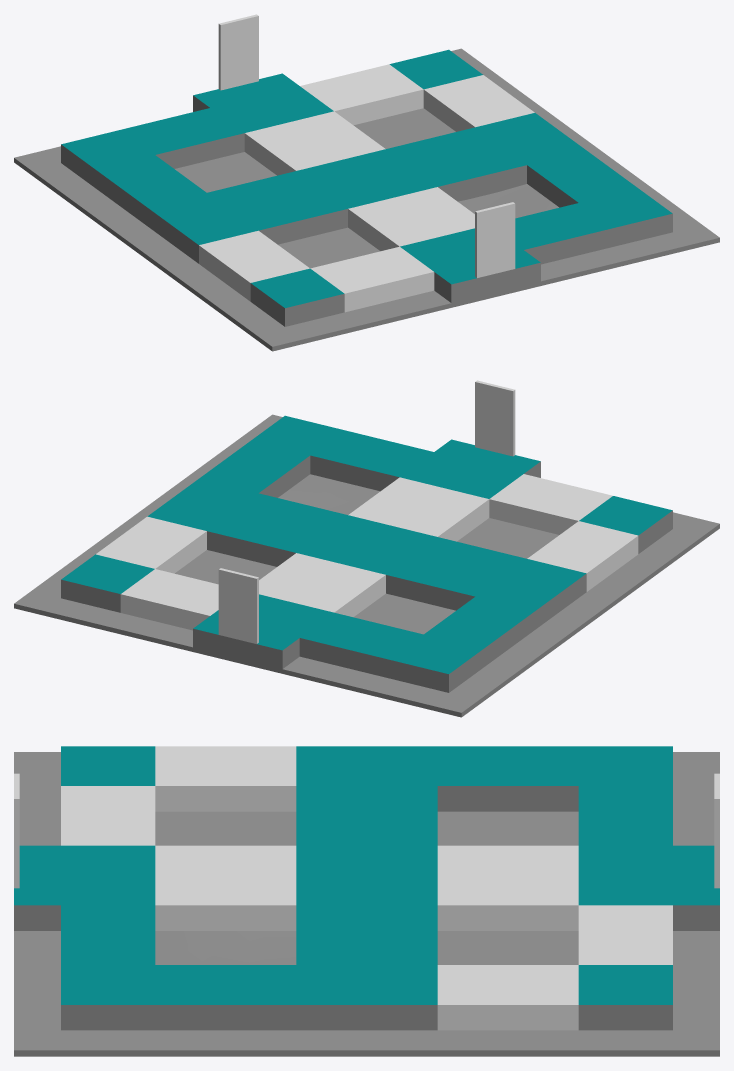
File: AligatorBossRoom.FBX
3 renders of one model, top to bottom at view 1: azimuth 30°, elevation 25°; view 2: azimuth 150°, elevation 25°; view 3: azimuth 270°, elevation 25°, orthographic. The views are drawn at different scales.
Visible parts, largest first — view 1: AligatorBossRoom, BreakableBlock(6), BreakableBlock(5), BreakableBlock(4), BreakableBlock(3), BreakableBlock(1), BreakableBlock(2), EntranceDoor, ExitDoor; view 2: AligatorBossRoom, BreakableBlock(5), BreakableBlock(6), BreakableBlock(4), BreakableBlock(3), BreakableBlock(1), BreakableBlock(2), ExitDoor, EntranceDoor; view 3: AligatorBossRoom, BreakableBlock(5), BreakableBlock(6), BreakableBlock(1), BreakableBlock(2), BreakableBlock(3), BreakableBlock(4), ExitDoor, EntranceDoor.
Part boxes in pixels (box(x1,y1,x2,y2)): AligatorBossRoom: box(14, 48, 719, 351); BreakableBlock(6): box(244, 111, 385, 175); BreakableBlock(5): box(348, 187, 474, 251); BreakableBlock(4): box(310, 246, 434, 312); BreakableBlock(3): box(300, 64, 423, 125); BreakableBlock(1): box(199, 230, 309, 301); BreakableBlock(2): box(423, 75, 534, 131); EntranceDoor: box(218, 14, 258, 90); ExitDoor: box(475, 202, 515, 277); AligatorBossRoom: box(14, 414, 719, 717); BreakableBlock(5): box(348, 477, 489, 541); BreakableBlock(6): box(259, 553, 385, 617); BreakableBlock(4): box(489, 474, 612, 534); BreakableBlock(3): box(120, 569, 218, 630); BreakableBlock(1): box(527, 521, 638, 591); BreakableBlock(2): box(96, 516, 206, 573); ExitDoor: box(475, 380, 515, 456); EntranceDoor: box(218, 568, 258, 643); AligatorBossRoom: box(14, 746, 719, 1056); BreakableBlock(5): box(155, 845, 296, 930); BreakableBlock(6): box(437, 845, 578, 930); BreakableBlock(1): box(155, 746, 296, 811); BreakableBlock(2): box(437, 965, 578, 1030); BreakableBlock(3): box(578, 905, 672, 964); BreakableBlock(4): box(61, 786, 155, 845); ExitDoor: box(14, 773, 19, 888); EntranceDoor: box(714, 773, 719, 888).
Size of the model in its own units: 984 by 187 by 984.
